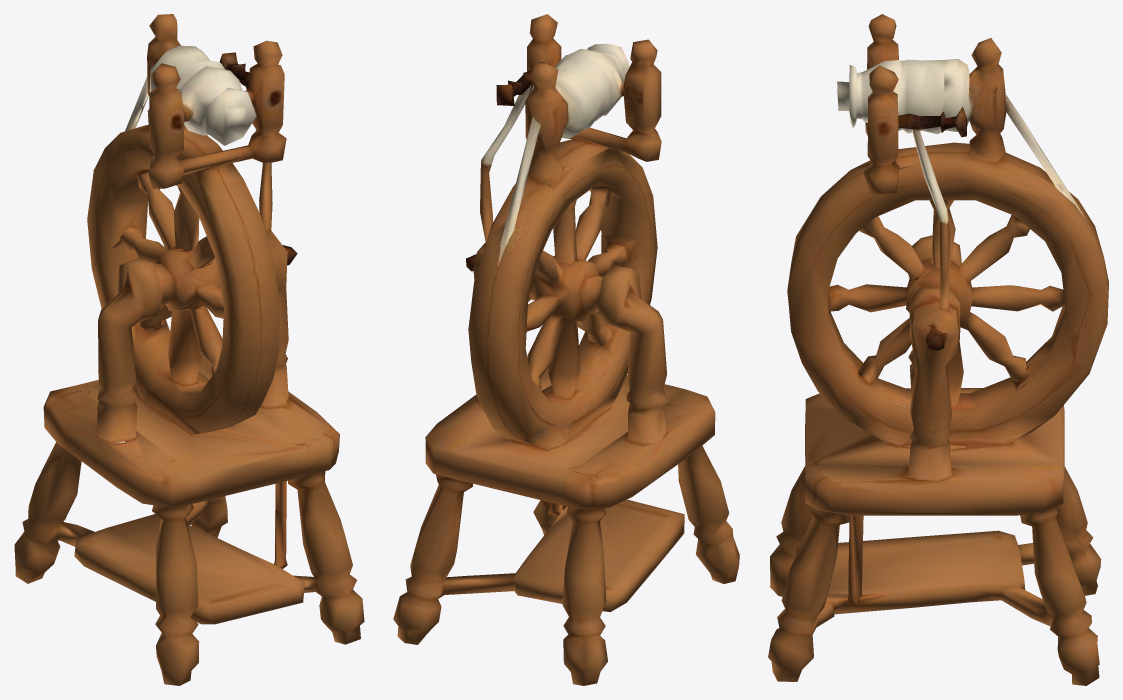
File: spinwheel.glb
The picture shows the model from 3 angles, left to right: view 1: azimuth 30°, elevation 25°; view 2: azimuth 150°, elevation 25°; view 3: azimuth 270°, elevation 25°; orthographic projection. The views are drawn at different scales.
Parts seen in each view (by area): view 1: model; view 2: model; view 3: model.
Boxes of the visible parts, left/top/right/bottom form: model: left=14, top=14, right=364, bottom=685; model: left=393, top=14, right=739, bottom=685; model: left=768, top=14, right=1108, bottom=685.
Size of the model in its own units: 0.718 by 1.9 by 0.9823.
1 material, 1 textured.
